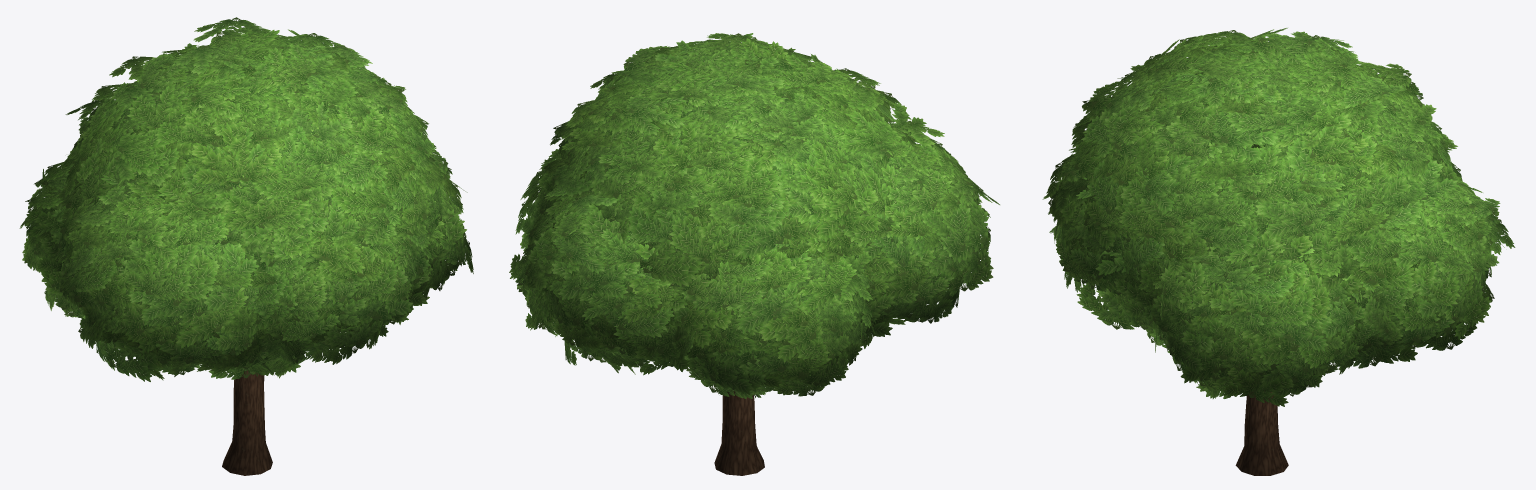
Rendered from broadleaf_a.glb.
3 renders of one model, left to right at view 1: azimuth 30°, elevation 25°; view 2: azimuth 150°, elevation 25°; view 3: azimuth 270°, elevation 25°, orthographic. The views are drawn at different scales.
Visible parts, largest first — view 1: leaves, wood; view 2: leaves, wood; view 3: leaves, wood.
Part boxes in pixels (bbox=[...]): leaves: bbox=[19, 17, 473, 381]; wood: bbox=[222, 369, 272, 475]; leaves: bbox=[509, 33, 999, 398]; wood: bbox=[714, 390, 764, 475]; leaves: bbox=[1042, 28, 1515, 406]; wood: bbox=[1235, 390, 1288, 475].
Size of the model in its own units: 8.41 by 7.94 by 8.14.
Materials: 2 (2 with a texture image).
